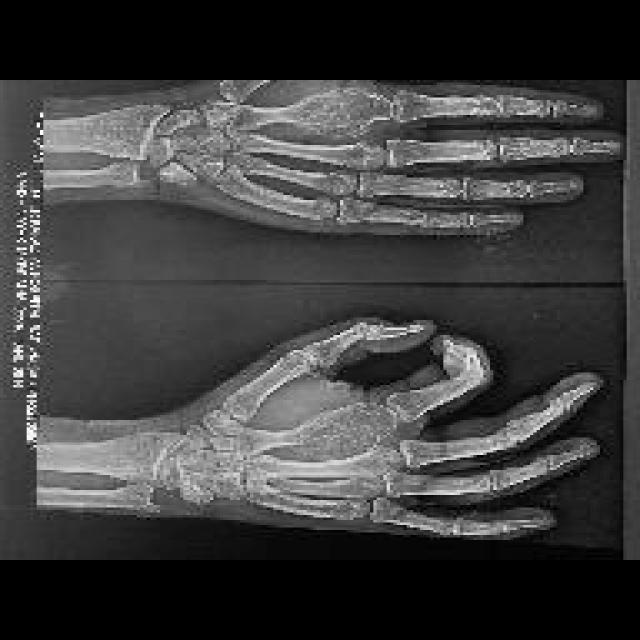bone-cancer: (292, 402, 393, 458), (293, 88, 394, 137)
